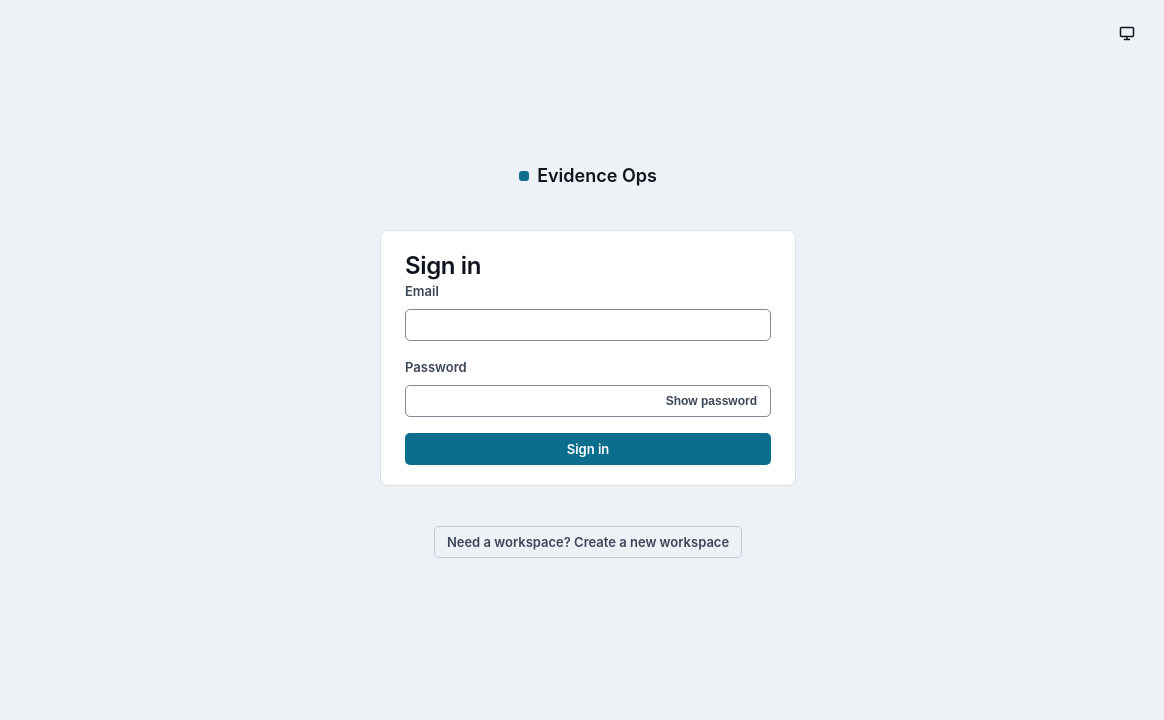
Test case: LoginPage › returns to the deep link recorded in ?next= after signing in
Type "user@example.com" into the field labelled "Email". click: (588, 325)
box: [405,309,771,341]
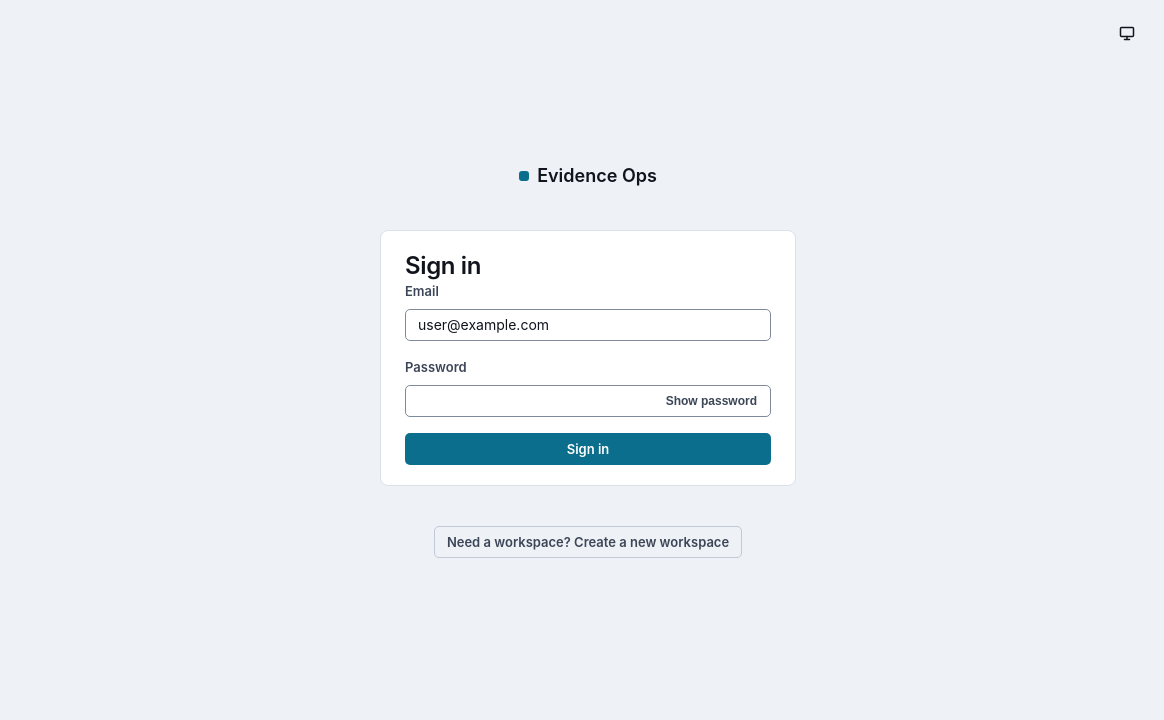
Type "correct-password" into the password field labelled "Password". click: (588, 401)
box: [405,385,771,417]
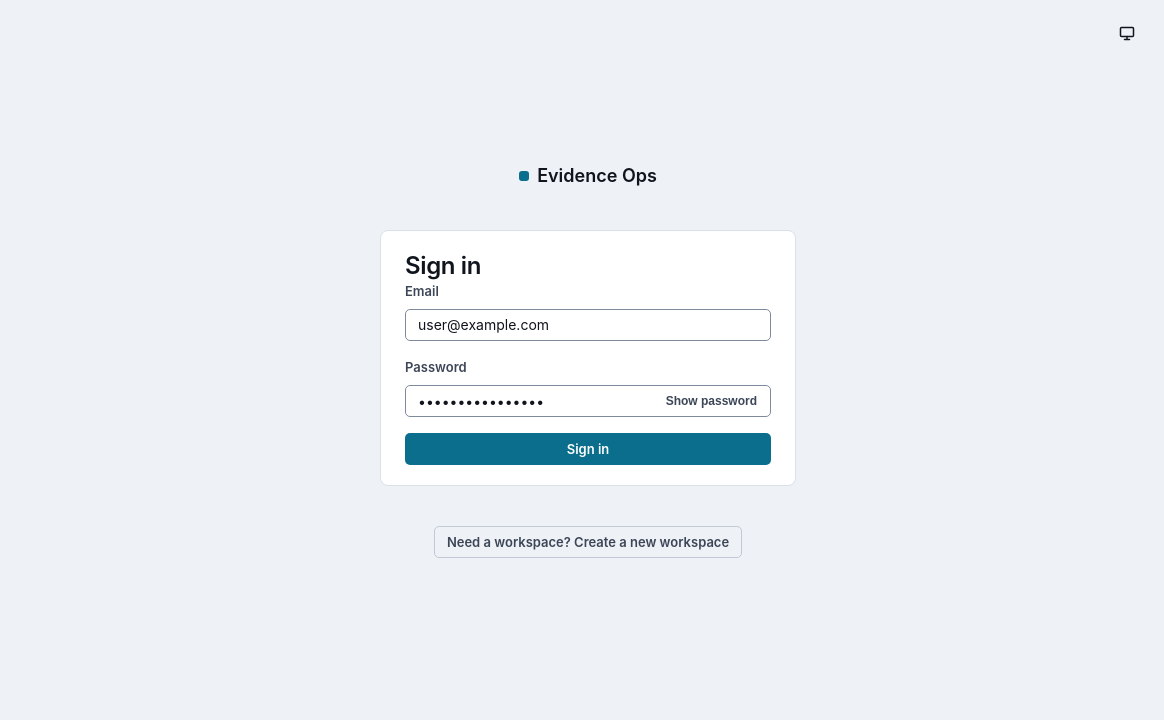
Click the button "Sign in". click: (588, 449)
box: [405,433,771,465]
(page scrolled)
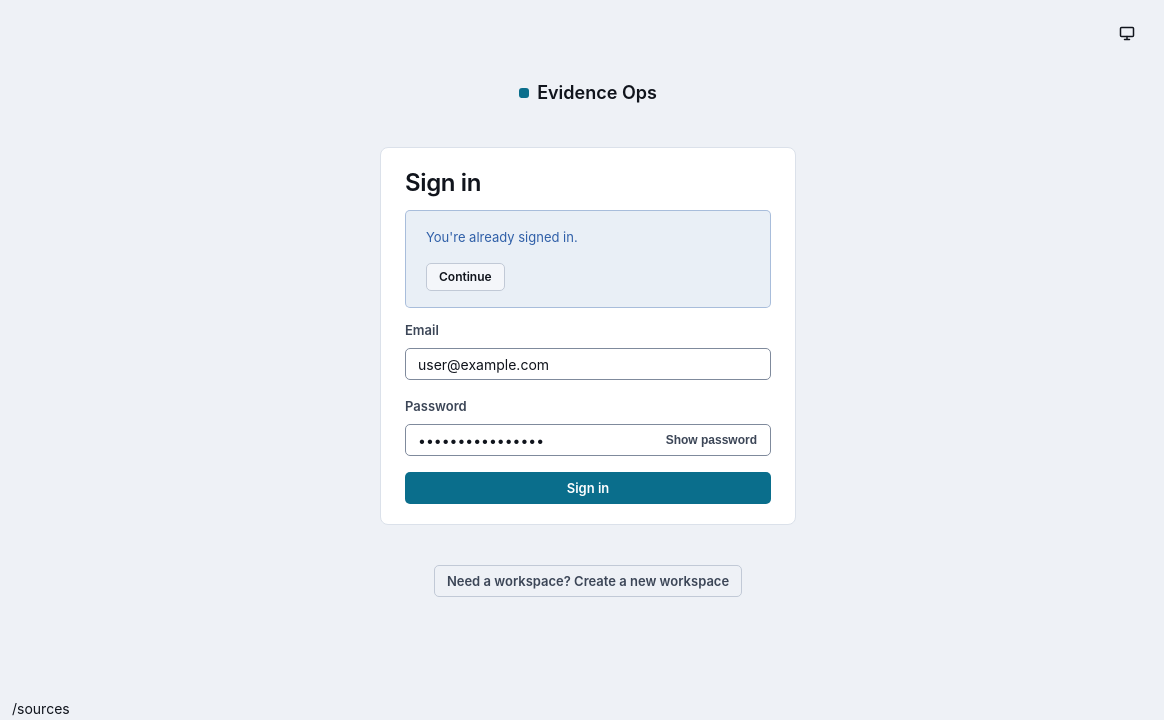
Check: the text named "current location" reads "/sources", box [12,700,70,717]
